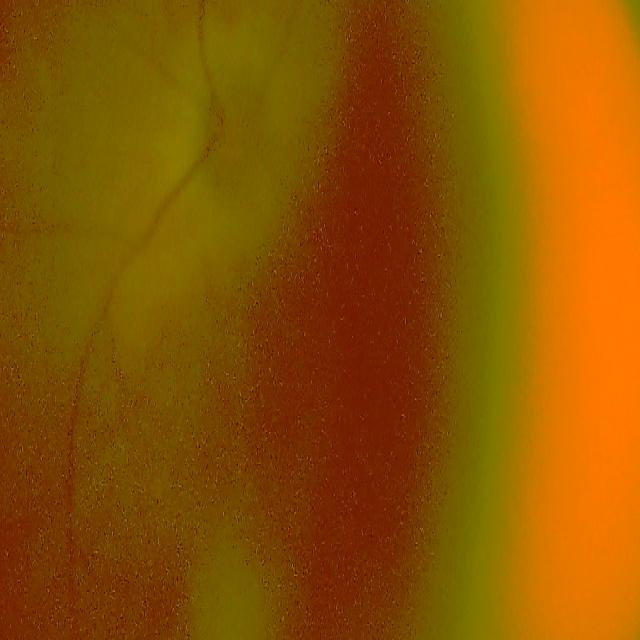optic-nerve: (168, 54, 296, 236)
